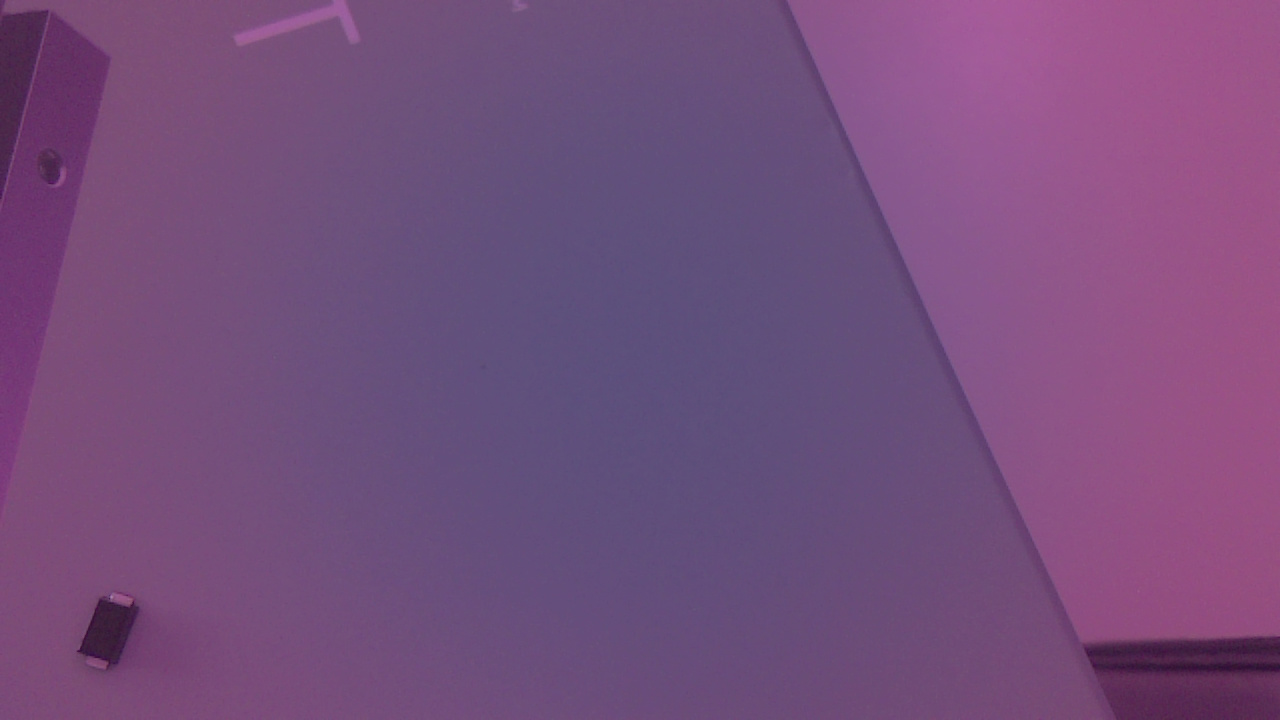Diode: (73, 592, 151, 680)
